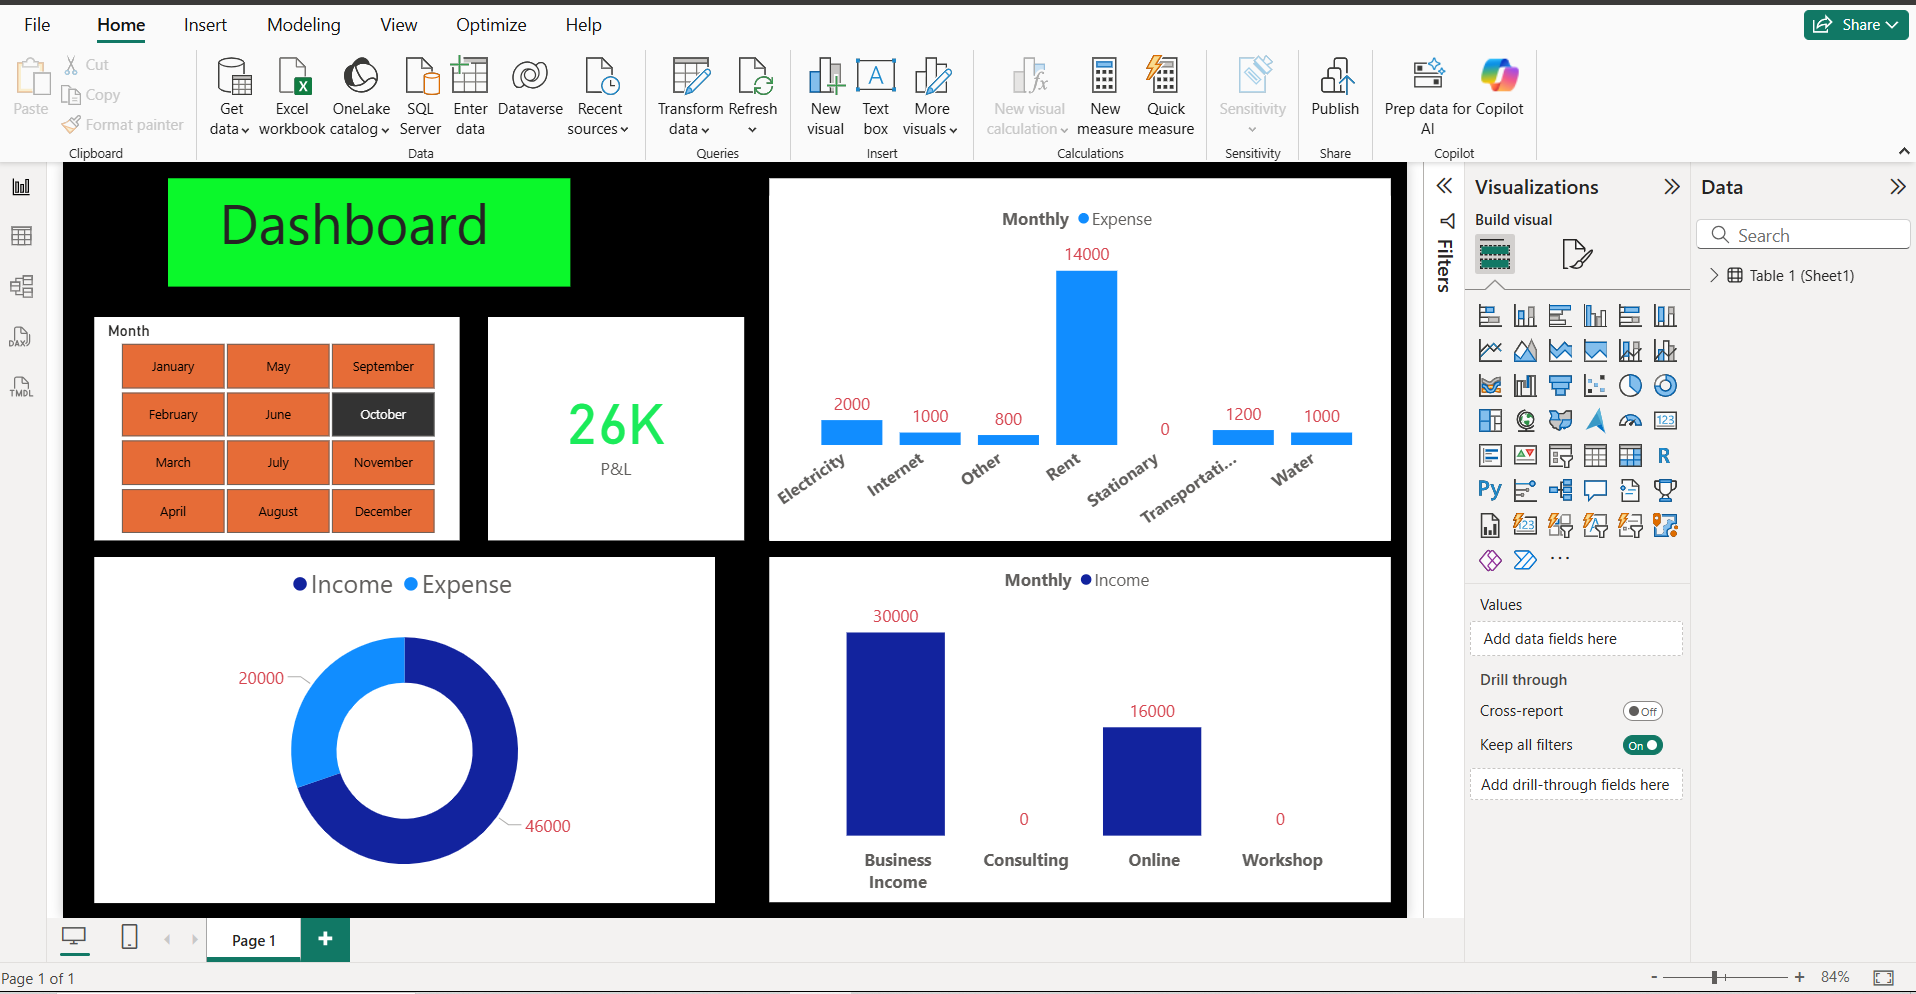

What the dashboard file says about the page in this screenshot:
{"tool":"powerbi","page":{"name":"Page 1","canvas":[1280,720],"ordinal":0},"visuals":[{"type":"columnChart","fields":{"Category":["Table 1 (Sheet1).Sub_cate"],"Y":["Sum(Table 1 (Sheet1).Amount)"],"Series":["Table 1 (Sheet1).Category"]},"box":[672.6,15.5,591.7,344],"z":0},{"type":"columnChart","fields":{"Category":["Table 1 (Sheet1).Sub_cate"],"Y":["Sum(Table 1 (Sheet1).Amount)"],"Series":["Table 1 (Sheet1).Category"]},"box":[672.6,376.2,591.7,328.6],"z":1000},{"type":"donutChart","fields":{"Category":["Table 1 (Sheet1).Category"],"Y":["Sum(Table 1 (Sheet1).Amount)"]},"box":[30.2,376,591.4,329.3],"z":2000},{"type":"slicer","fields":{"Values":["Table 1 (Sheet1).Date.Variation.Date Hierarchy.Month"]},"box":[30,147.7,348.2,212.5],"z":3000},{"type":"card","fields":{"Values":["Table 1 (Sheet1).P&L"]},"box":[404.7,147.7,243.8,212.5],"z":4000},{"type":"textbox","box":[99.7,15.6,383,103.3],"z":5000},{"type":"columnChart","fields":{"Category":["Table 1 (Sheet1).Sub_cate"],"Y":["Sum(Table 1 (Sheet1).Amount)"],"Series":["Table 1 (Sheet1).Category"]},"box":[672.6,32.1,591.7,328.6],"z":6000}]}

Visuals, with their boxes on the page's 1280x720 design canvas (x1, y1, x2, y2). These are canvas units, not pixel positions in the 1916x994 screenshot, which may show the page scaled, cropped or inside an application window:
columnChart - Table 1 (Sheet1).Sub_cate x Sum(Table 1 (Sheet1).Amount): detection(673, 16, 1264, 360)
columnChart - Table 1 (Sheet1).Sub_cate x Sum(Table 1 (Sheet1).Amount): detection(673, 376, 1264, 705)
donutChart - Table 1 (Sheet1).Category x Sum(Table 1 (Sheet1).Amount): detection(30, 376, 622, 705)
slicer - Table 1 (Sheet1).Date.Variation.Date Hierarchy.Month: detection(30, 148, 378, 360)
card - Table 1 (Sheet1).P&L: detection(405, 148, 648, 360)
textbox: detection(100, 16, 483, 119)
columnChart - Table 1 (Sheet1).Sub_cate x Sum(Table 1 (Sheet1).Amount): detection(673, 32, 1264, 361)
